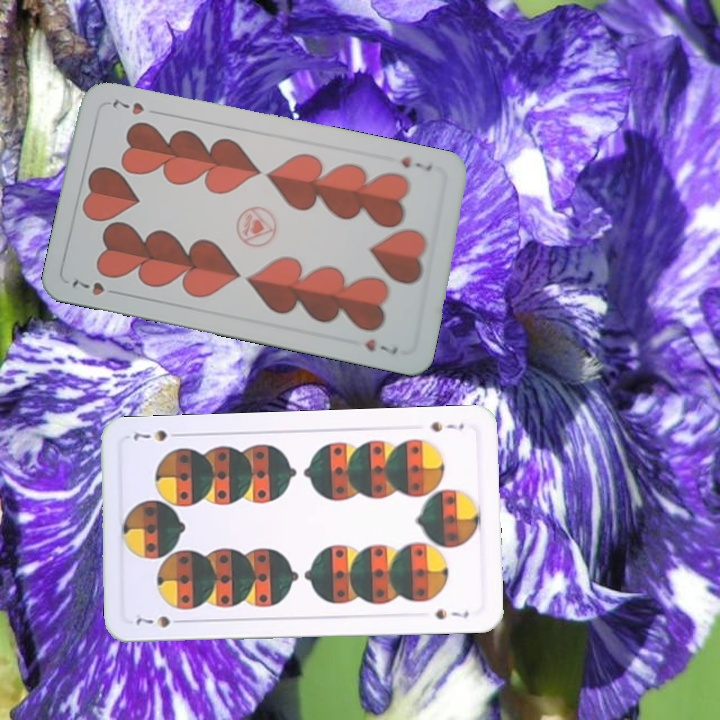H7: (68, 275, 124, 298), (397, 153, 435, 174)
S7: (132, 611, 188, 630), (425, 418, 466, 435)
